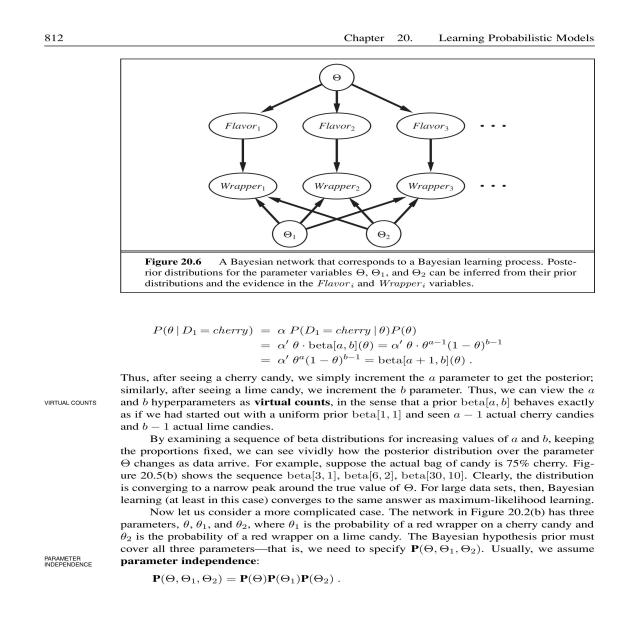diagram: (86, 52, 640, 299)
